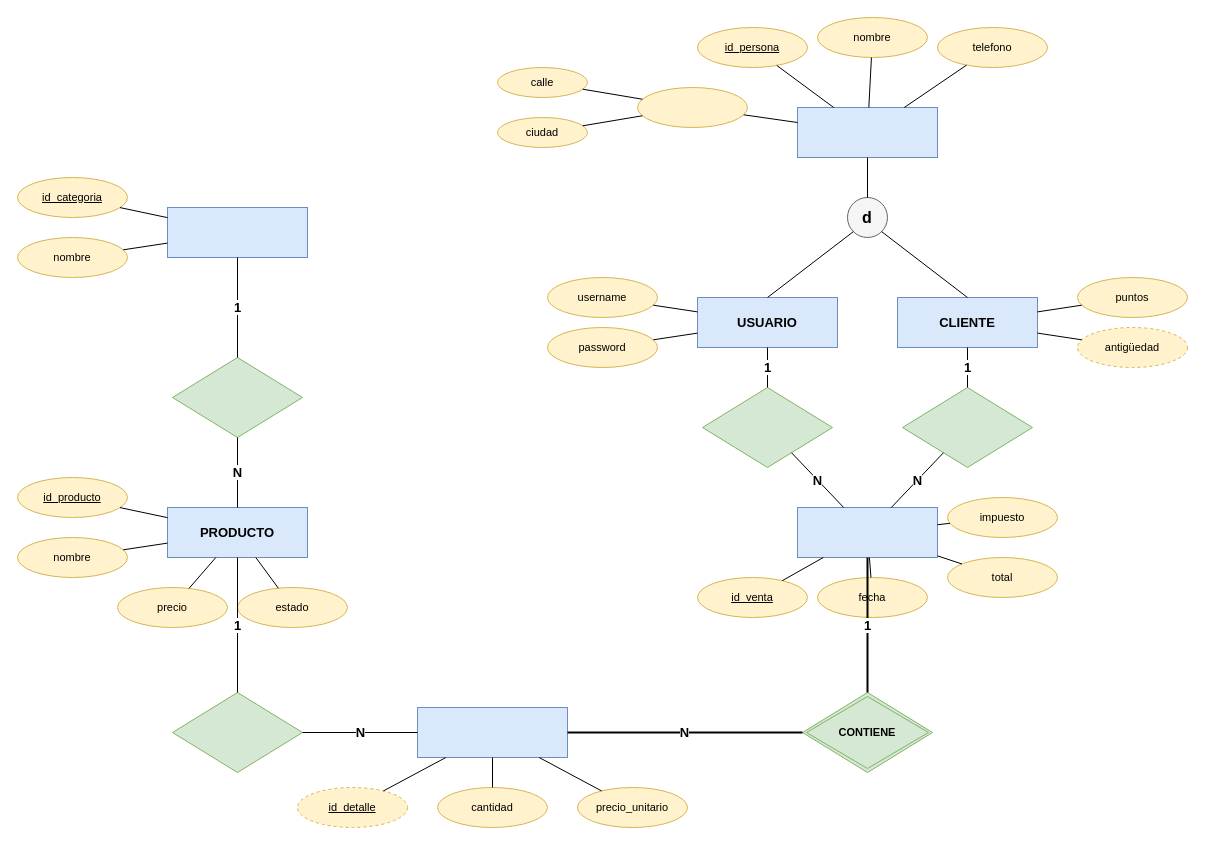
This 1205x845 diagram has some shape labels left out. Each missing label, with the centre of its shape:
CATEGORÍA: (237,232)
DETALLE_VENTA: (492,732)
direccion: (692,107)
INCLUYE: (237,732)
PERSONA: (867,132)
PERTENECE: (237,397)
REALIZA: (967,427)
REGISTRA: (767,427)
VENTA: (867,532)
